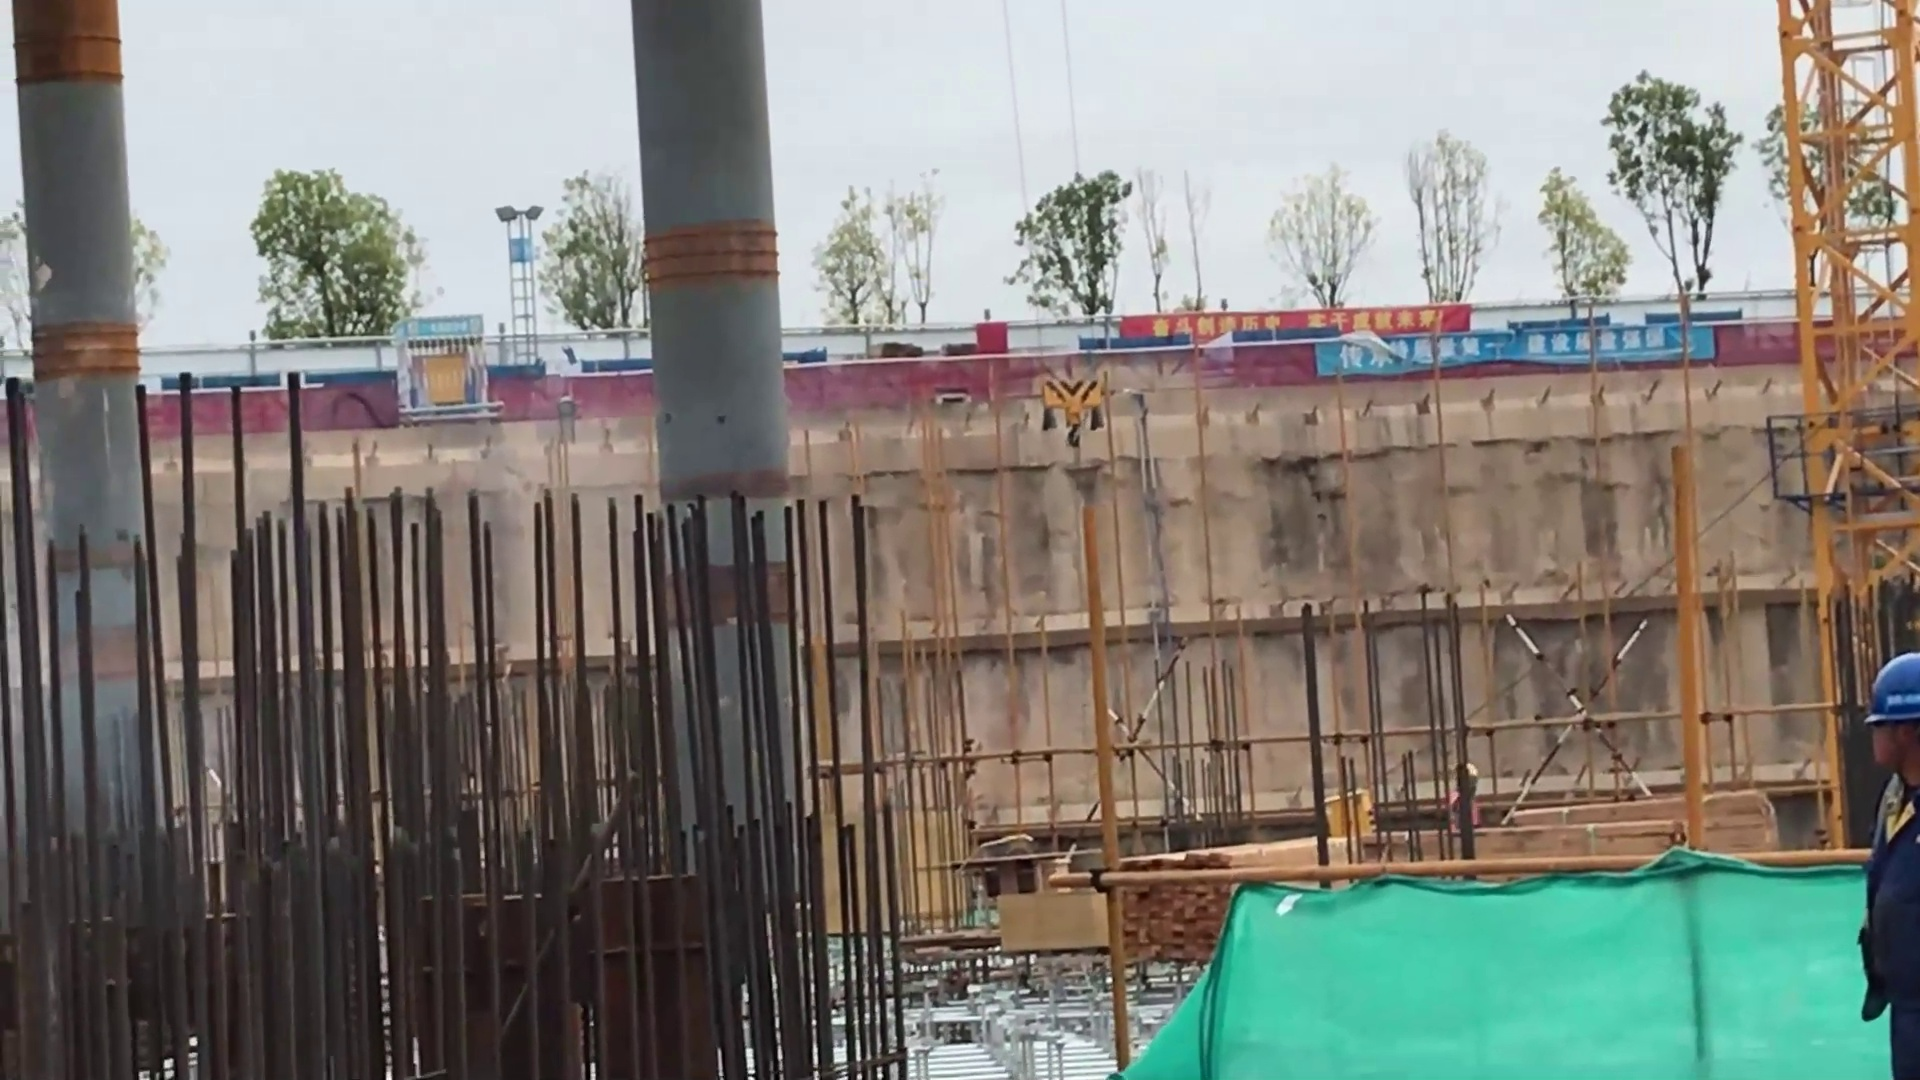ebox: (408, 351, 467, 404), (1325, 790, 1375, 835)
helmet: (1872, 655, 1920, 722)
hook: (1038, 374, 1106, 452)
person: (1863, 649, 1920, 1080)
slogan: (1319, 324, 1715, 376), (1120, 304, 1472, 340)
vest: (1865, 781, 1920, 1080)
wood: (1474, 789, 1777, 854), (1124, 848, 1227, 958)
